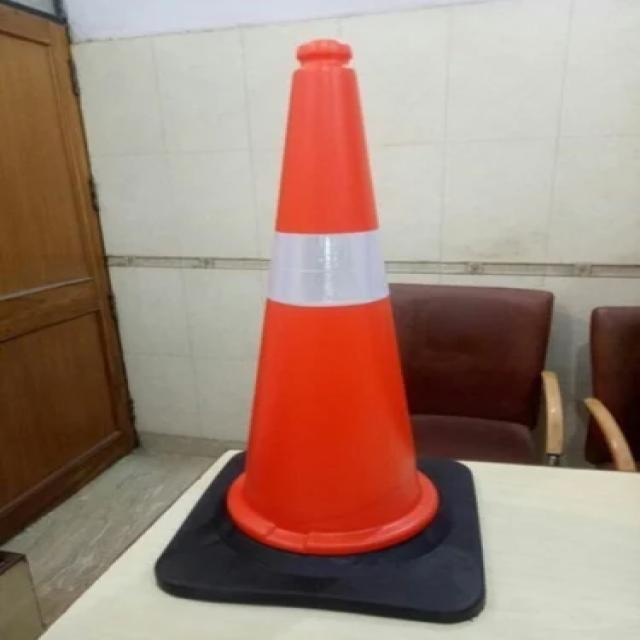Traffic Cone: (106, 19, 572, 640)
